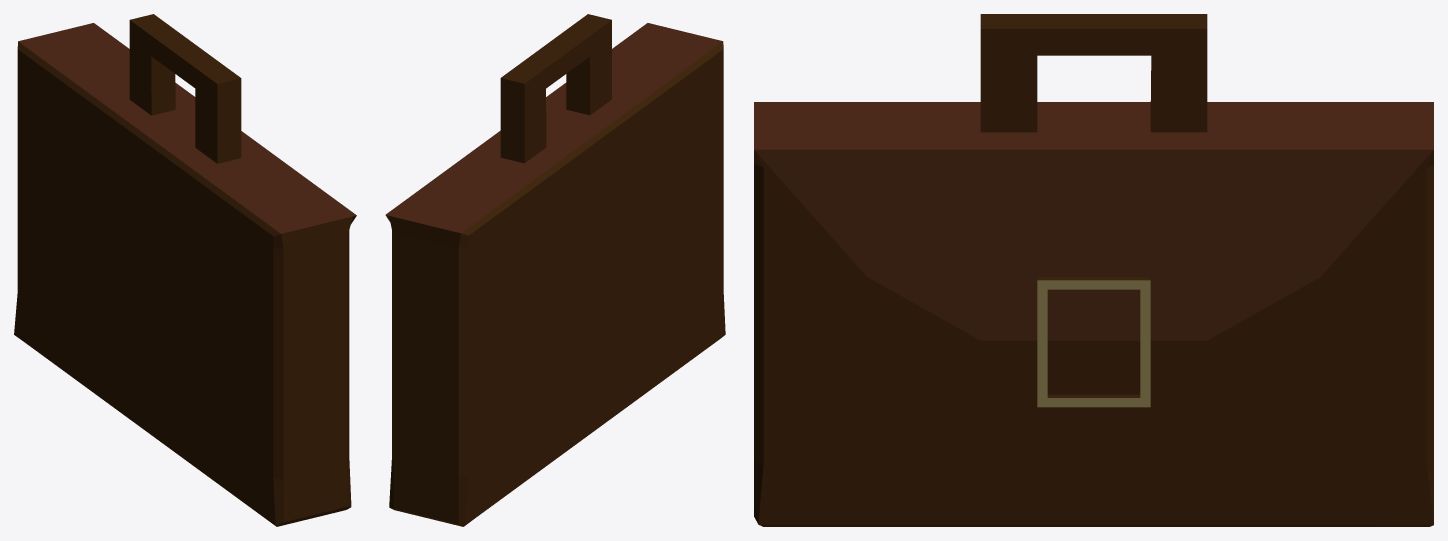
File: maleta.fbx
The picture shows the model from 3 angles, left to right: view 1: azimuth 30°, elevation 25°; view 2: azimuth 150°, elevation 25°; view 3: azimuth 270°, elevation 25°; orthographic projection. The views are drawn at different scales.
Visible parts, largest first — view 1: Cube; view 2: Cube; view 3: Cube.
Part boxes in pixels (x1,y1,x2,y2): Cube: [14, 14, 356, 526]; Cube: [385, 14, 725, 526]; Cube: [754, 14, 1433, 526].
Size of the model in its own units: 66.38 by 280 by 356.
